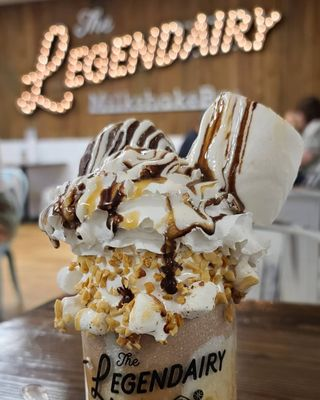sushi: (38, 107, 280, 393)
